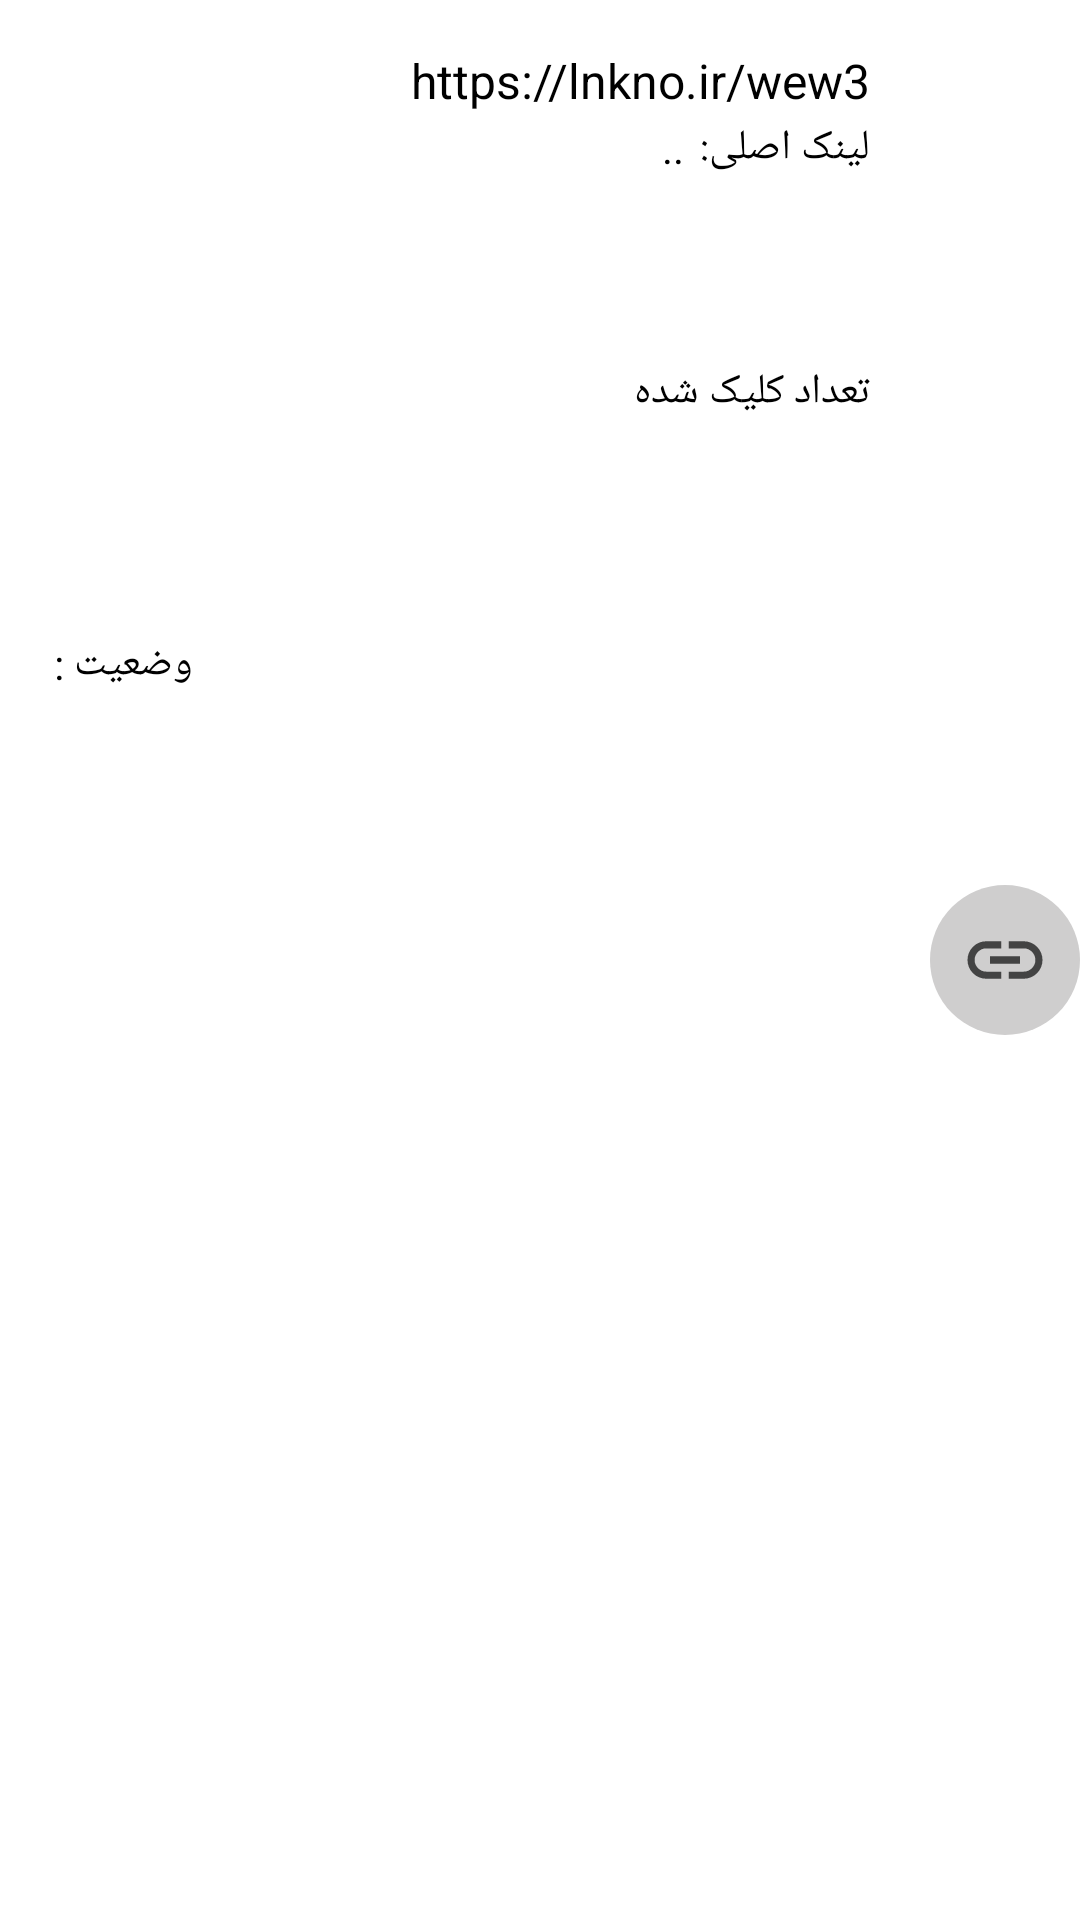

Locate icon controls on the screen. Image size 1080px×1920px, boxes as (x1, y1, x2, y2).
insert link: (967, 941, 1043, 979)
